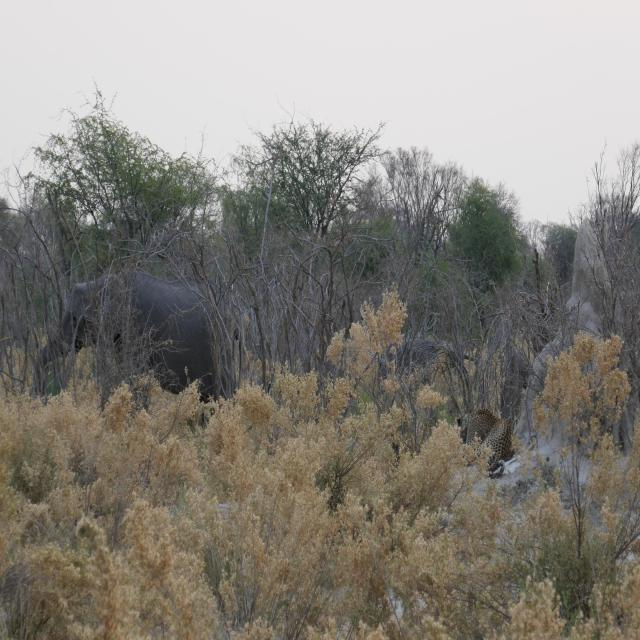Leopard: (459, 396, 521, 480)
